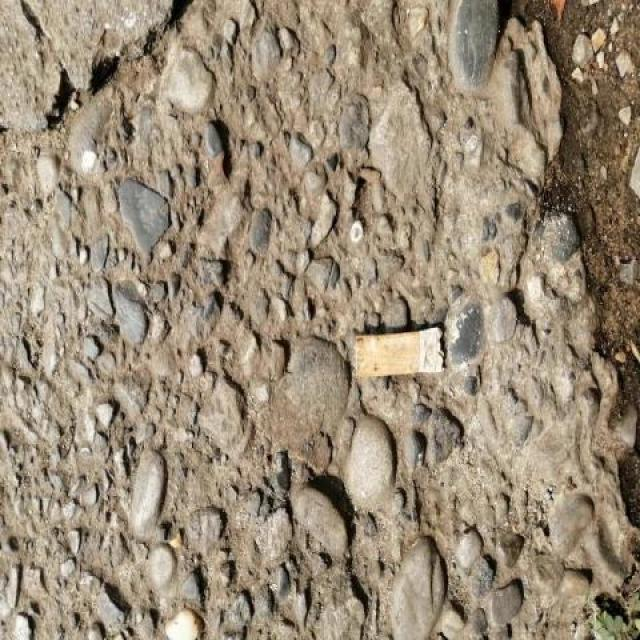non-organic waste: (349, 317, 451, 382)
